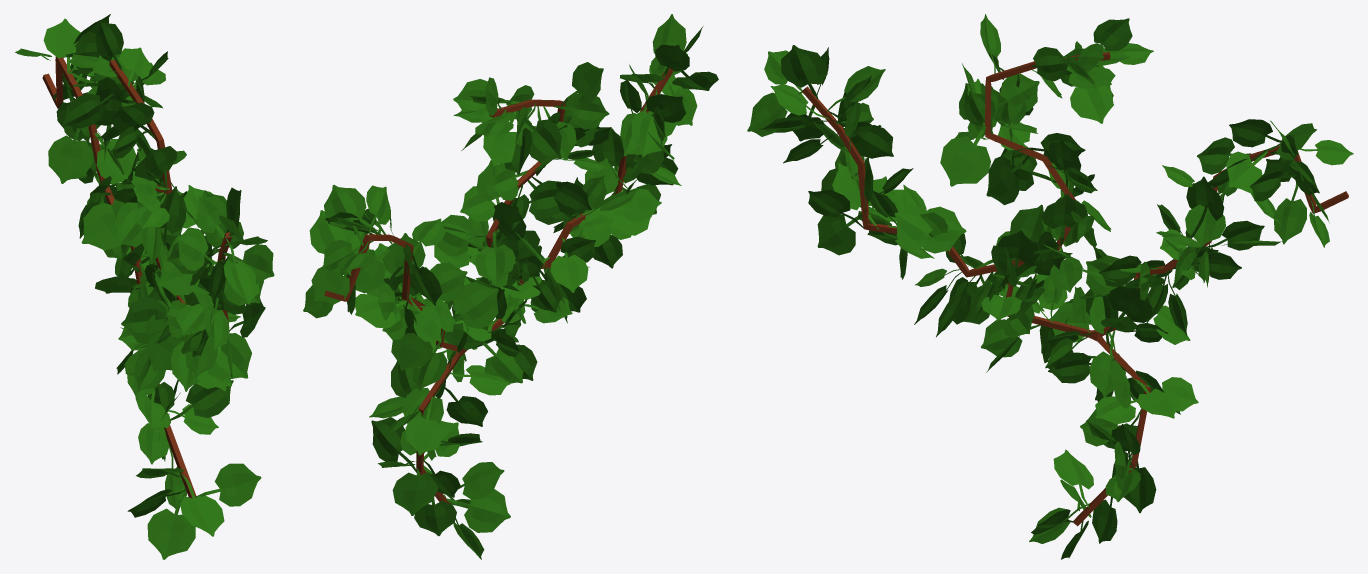
The model's file is ivy.fbx.
3 views of the same model, side by side, from view 1: azimuth 30°, elevation 25°; view 2: azimuth 150°, elevation 25°; view 3: azimuth 270°, elevation 25° (orthographic). The views are drawn at different scales.
Parts seen in each view (by area): view 1: Plane.002, Plane.002|Plane|Dupli|111, Plane.002|Plane|Dupli|4, Plane.002|Plane|Dupli|149, Plane.002|Plane|Dupli|67, Plane.002|Plane|Dupli|90, Plane.002|Plane|Dupli|5, Plane.002|Plane|Dupli|141, Plane.002|Plane|Dupli|138, Plane.002|Plane|Dupli|83, Plane.002|Plane|Dupli|50, Plane.002|Plane|Dupli|130 (+47 smaller); view 2: Plane.002, Plane.002|Plane|Dupli|176, Plane.002|Plane|Dupli|167, Plane.002|Plane|Dupli|85, Plane.002|Plane|Dupli|196, Plane.002|Plane|Dupli|103, Plane.002|Plane|Dupli|83, Plane.002|Plane|Dupli|138, Plane.002|Plane|Dupli|198, Plane.002|Plane|Dupli|96, Plane.002|Plane|Dupli|171, Plane.002|Plane|Dupli|41 (+58 smaller); view 3: Plane.002, Plane.002|Plane|Dupli|55, Plane.002|Plane|Dupli|87, Plane.002|Plane|Dupli|180, Plane.002|Plane|Dupli|31, Plane.002|Plane|Dupli|175, Plane.002|Plane|Dupli|80, Plane.002|Plane|Dupli|54, Plane.002|Plane|Dupli|192, Plane.002|Plane|Dupli|35, Plane.002|Plane|Dupli|56, Plane.002|Plane|Dupli|9 (+32 smaller).
Part boxes in pixels (box(x1,y1,x2,y2)): Plane.002: box(42, 56, 231, 498); Plane.002|Plane|Dupli|111: box(147, 484, 195, 559); Plane.002|Plane|Dupli|4: box(48, 128, 92, 183); Plane.002|Plane|Dupli|149: box(195, 463, 261, 506); Plane.002|Plane|Dupli|67: box(81, 203, 120, 250); Plane.002|Plane|Dupli|90: box(121, 297, 168, 344); Plane.002|Plane|Dupli|5: box(180, 472, 224, 536); Plane.002|Plane|Dupli|141: box(207, 333, 251, 381); Plane.002|Plane|Dupli|138: box(170, 380, 233, 420); Plane.002|Plane|Dupli|83: box(62, 88, 125, 128); Plane.002|Plane|Dupli|50: box(176, 227, 216, 270); Plane.002|Plane|Dupli|130: box(223, 236, 259, 304); Plane.002: box(324, 68, 673, 503); Plane.002|Plane|Dupli|176: box(453, 281, 498, 328); Plane.002|Plane|Dupli|167: box(446, 489, 510, 532); Plane.002|Plane|Dupli|85: box(392, 468, 438, 515); Plane.002|Plane|Dupli|196: box(324, 185, 366, 245); Plane.002|Plane|Dupli|103: box(474, 230, 515, 285); Plane.002|Plane|Dupli|83: box(517, 110, 561, 162); Plane.002|Plane|Dupli|138: box(371, 417, 416, 472); Plane.002|Plane|Dupli|198: box(405, 396, 442, 455); Plane.002|Plane|Dupli|96: box(391, 333, 432, 370); Plane.002|Plane|Dupli|171: box(442, 462, 504, 499); Plane.002|Plane|Dupli|41: box(436, 215, 484, 256); Plane.002: box(802, 52, 1348, 526); Plane.002|Plane|Dupli|55: box(940, 116, 991, 186); Plane.002|Plane|Dupli|87: box(781, 45, 827, 99); Plane.002|Plane|Dupli|180: box(817, 211, 867, 255); Plane.002|Plane|Dupli|31: box(986, 155, 1029, 205); Plane.002|Plane|Dupli|175: box(894, 204, 950, 251); Plane.002|Plane|Dupli|80: box(1070, 85, 1113, 123); Plane.002|Plane|Dupli|54: box(833, 120, 893, 158); Plane.002|Plane|Dupli|192: box(984, 73, 1039, 113); Plane.002|Plane|Dupli|35: box(1273, 183, 1306, 244); Plane.002|Plane|Dupli|56: box(1108, 286, 1152, 322); Plane.002|Plane|Dupli|9: box(1042, 194, 1087, 245).
Bounding box in the file's own units: 76.92 × 197 × 206.
